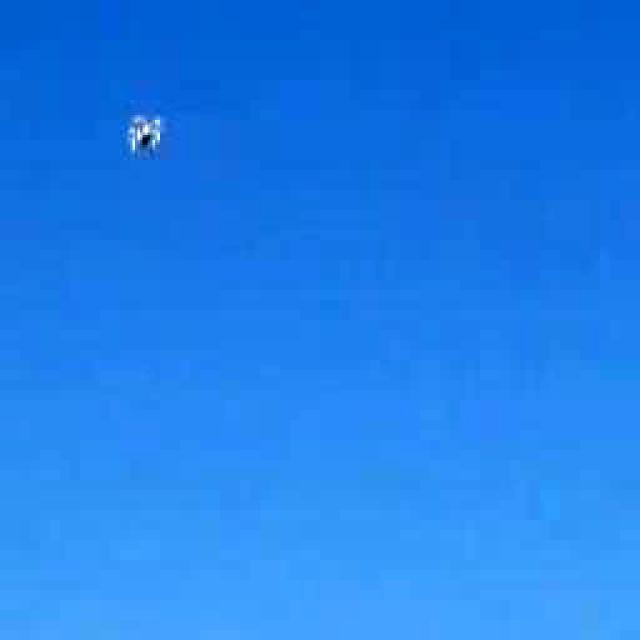bird: (96, 95, 191, 172)
